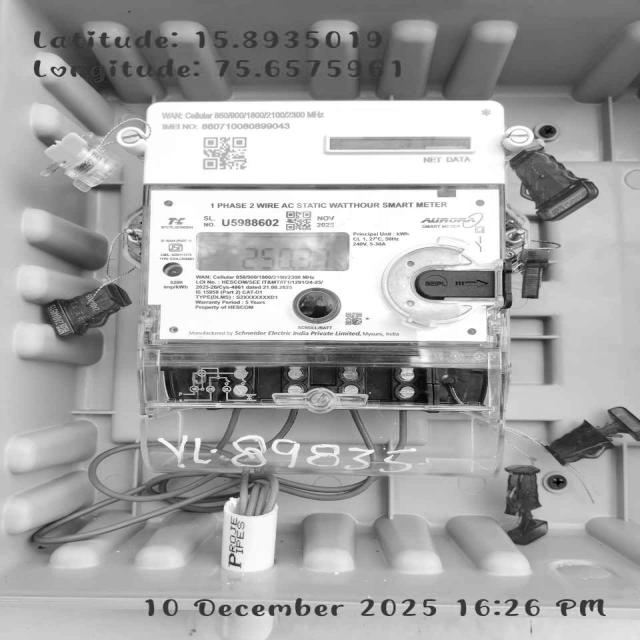meter: (147, 104, 500, 342)
